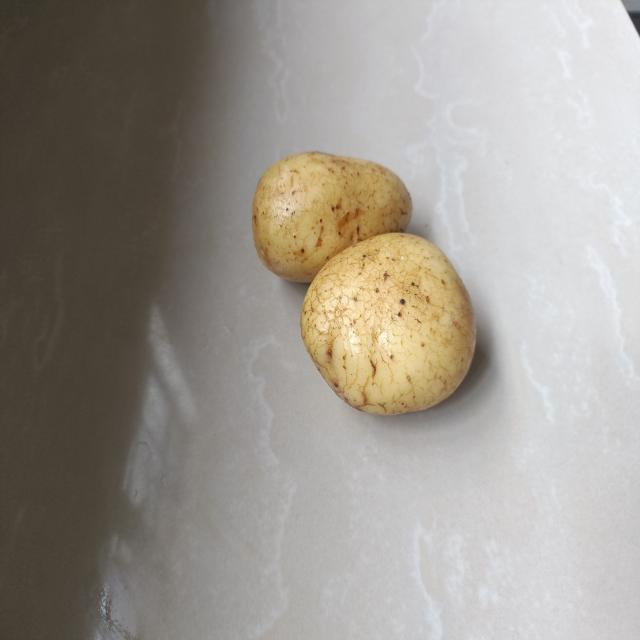potato: (297, 226, 479, 423), (242, 143, 418, 287)
